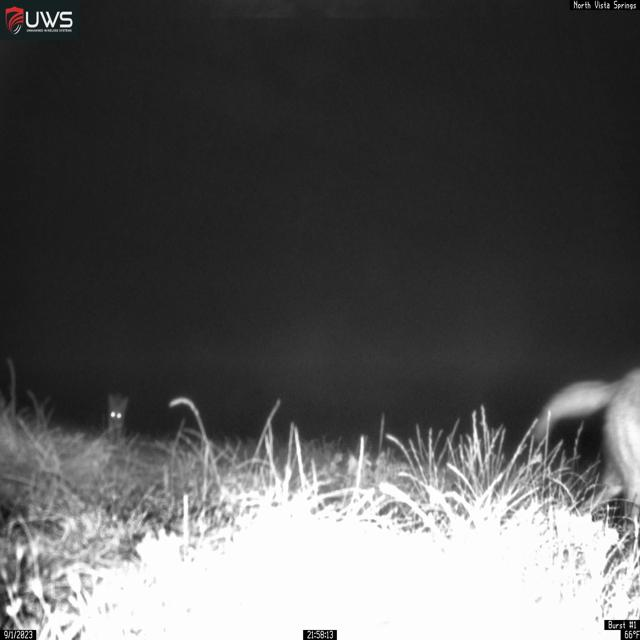coyote: (531, 365, 640, 550)
